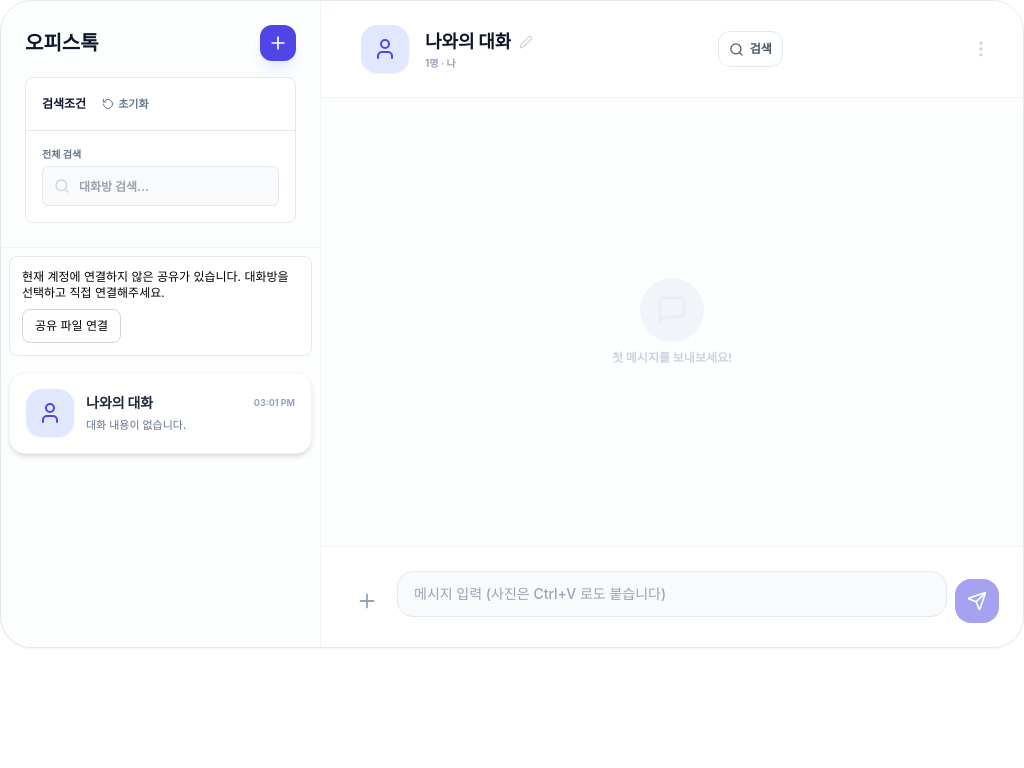
Test: 최초 원문 보존이 실패하면 업로드와 메시지 전송을 시작하지 않는다
The width and height of the screenshot is (1024, 768).
Click the button "공유 파일 연결": (72, 326) [22, 309, 121, 343]
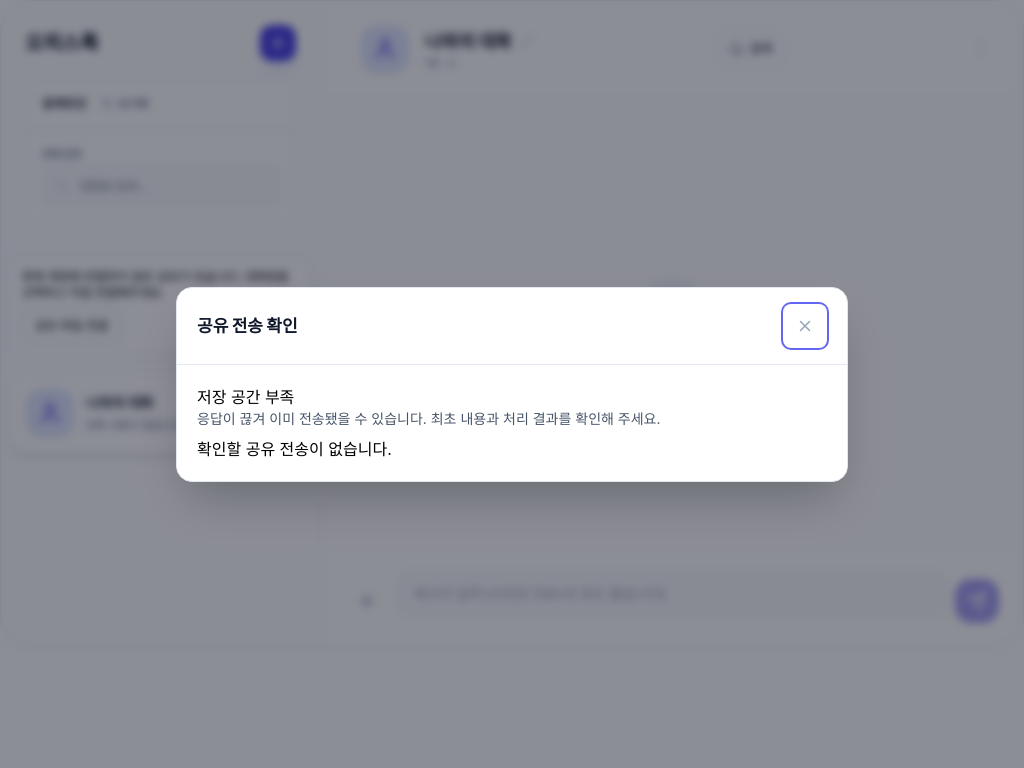
Now the text "저장 공간 부족" is shown, box [197, 386, 294, 406]
